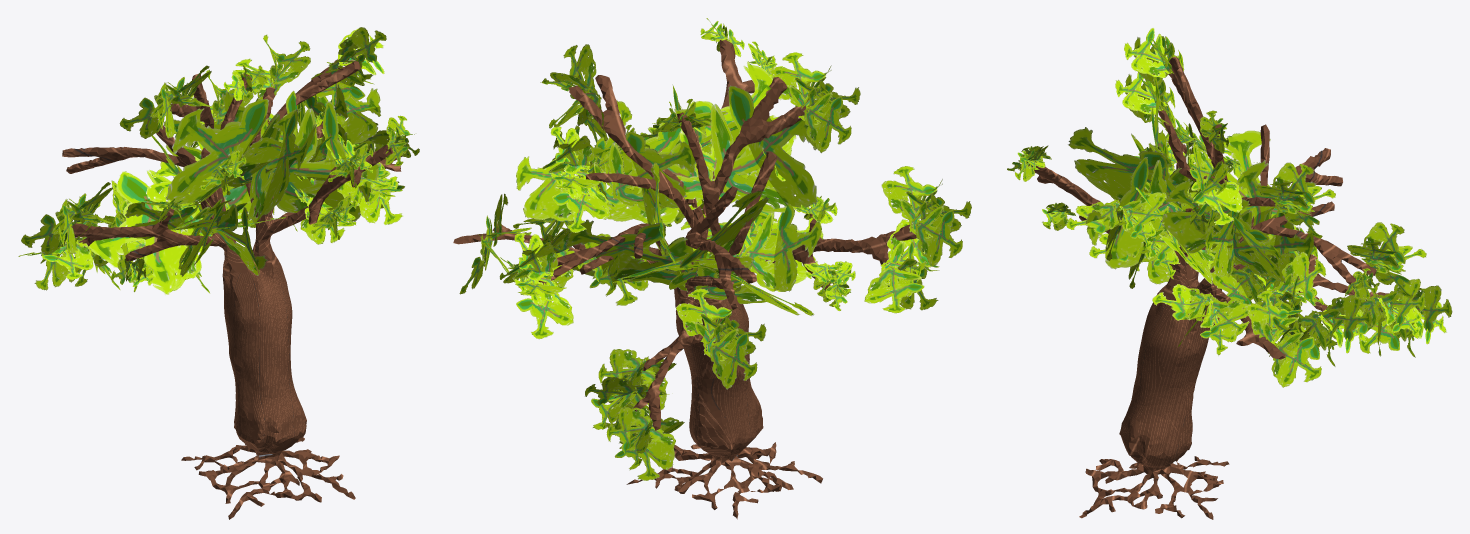
Rendered from TreeCombined.obj.
The picture shows the model from 3 angles, left to right: view 1: azimuth 30°, elevation 25°; view 2: azimuth 150°, elevation 25°; view 3: azimuth 270°, elevation 25°; orthographic projection. The views are drawn at different scales.
Visible parts, largest first — view 1: plane.152; view 2: plane.152; view 3: plane.152.
Part boxes in pixels (x1=…): plane.152: x1=18, y1=27, x2=419, y2=519; plane.152: x1=453, y1=18, x2=971, y2=519; plane.152: x1=1007, y1=28, x2=1452, y2=519.
Bounding box in the file's own units: 49.79 × 47.75 × 45.28.
Materials: 2 (2 with a texture image).
